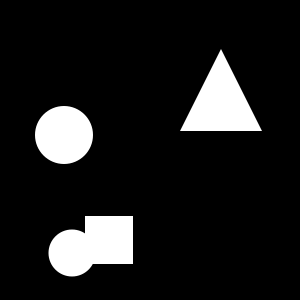circle: (85, 216, 133, 264)
rectangle: (35, 106, 93, 164), (48, 230, 96, 276)
triangle: (180, 49, 262, 131)
